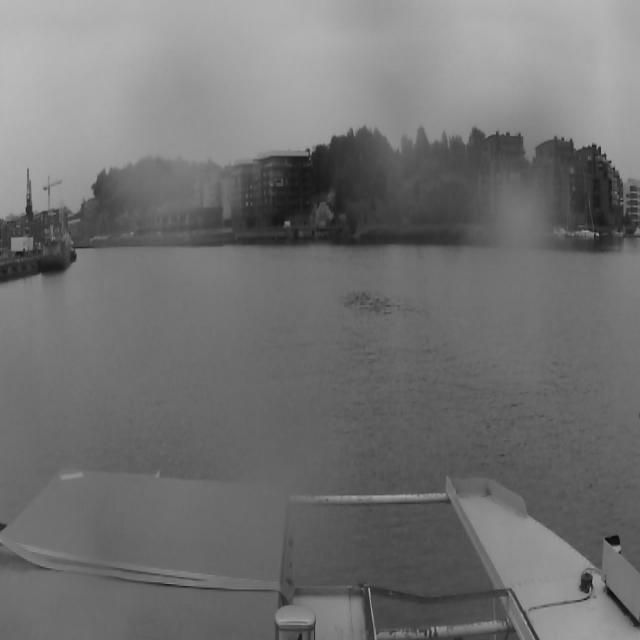ship: (566, 167, 602, 237), (41, 223, 72, 269)
